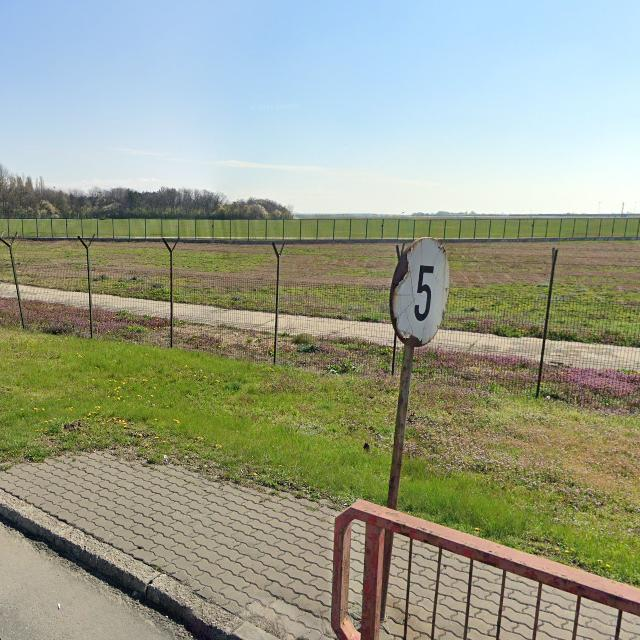forb_speed_over_5: (390, 237, 450, 346)
